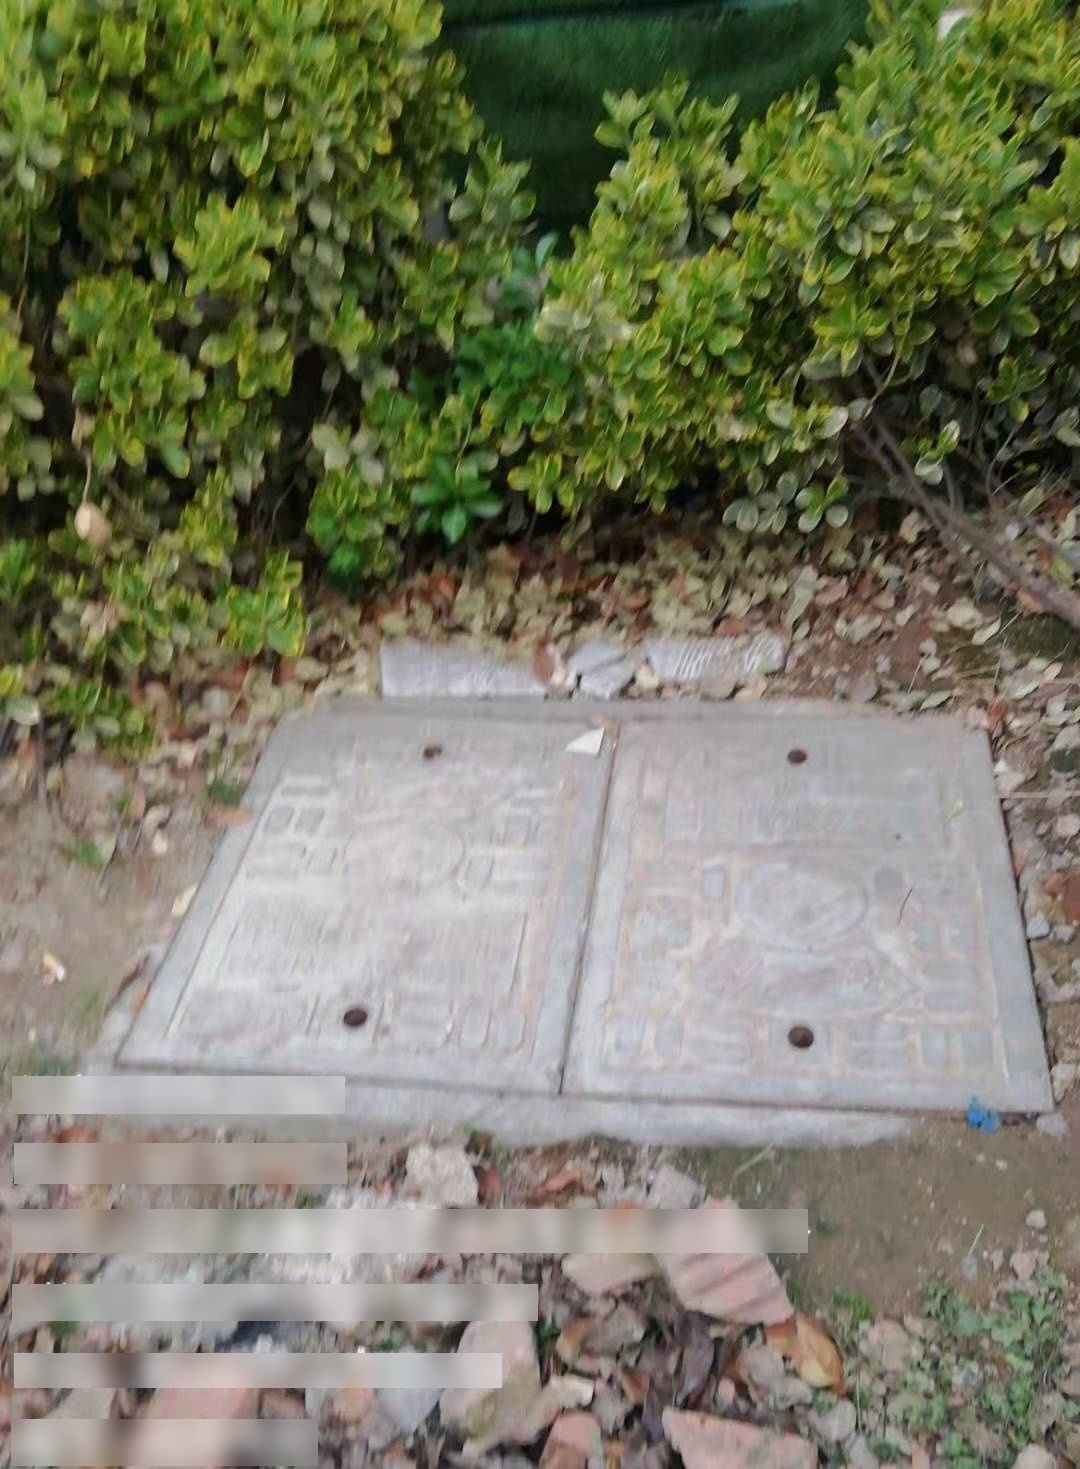good: (111, 698, 1058, 1113)
